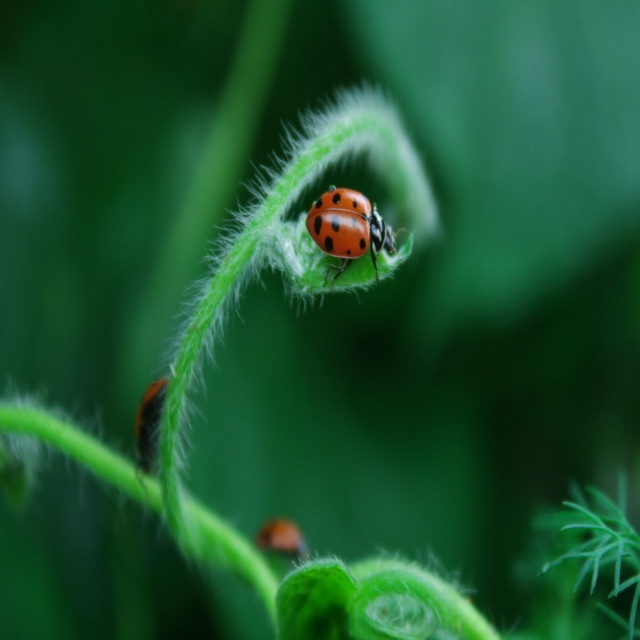Ladybug: (304, 188, 398, 288), (134, 376, 168, 470), (257, 519, 301, 550)
